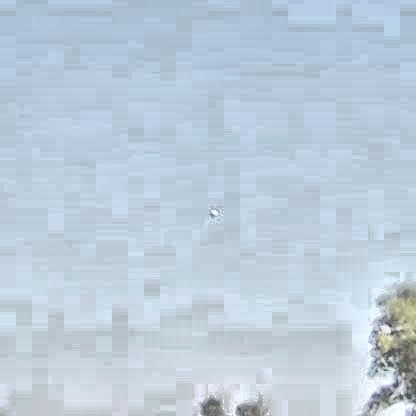golfball: (207, 207, 215, 214)
